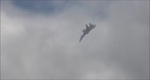maybay_muctieu: (78, 22, 95, 44)
